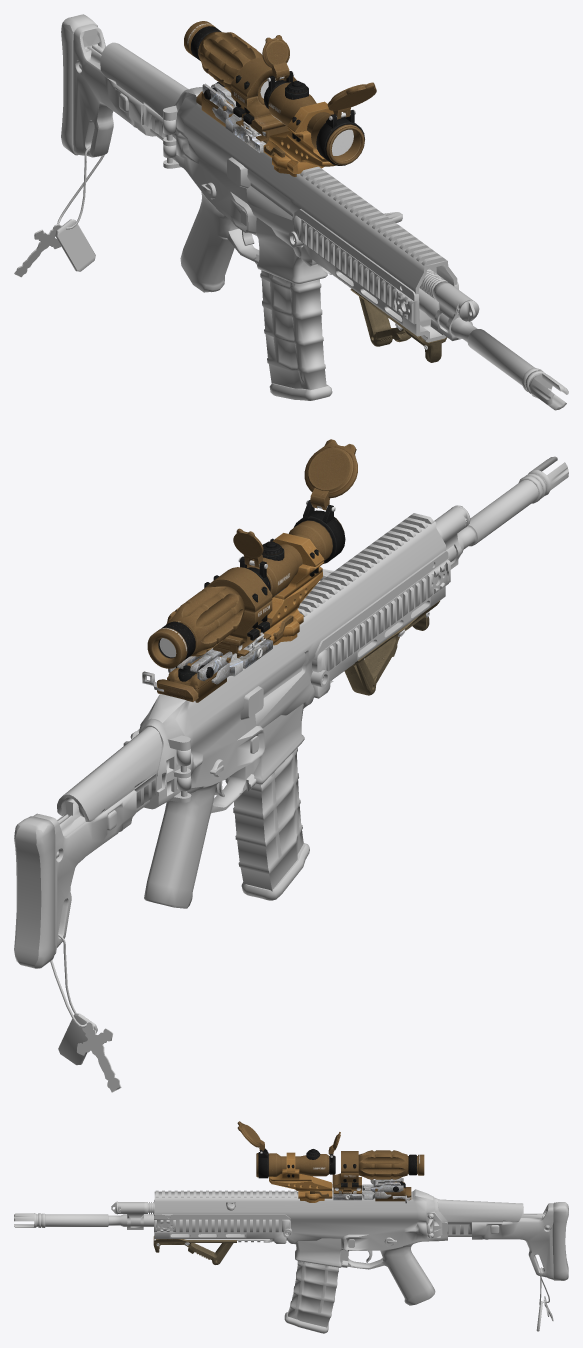
The model's file is SCAR.FBX.
3 views of the same model, one above another, from view 1: azimuth 30°, elevation 25°; view 2: azimuth 150°, elevation 25°; view 3: azimuth 270°, elevation 25° (orthographic). The views are drawn at different scales.
Visible parts, largest first — view 1: Gun; view 2: Gun; view 3: Gun.
Boxes of the visible parts, x1,y1,x2,y2 form: Gun: (14,14,568,410); Gun: (14,439,568,1092); Gun: (14,1121,568,1333).
Size of the model in its own units: 11.22 by 37.48 by 87.54.
